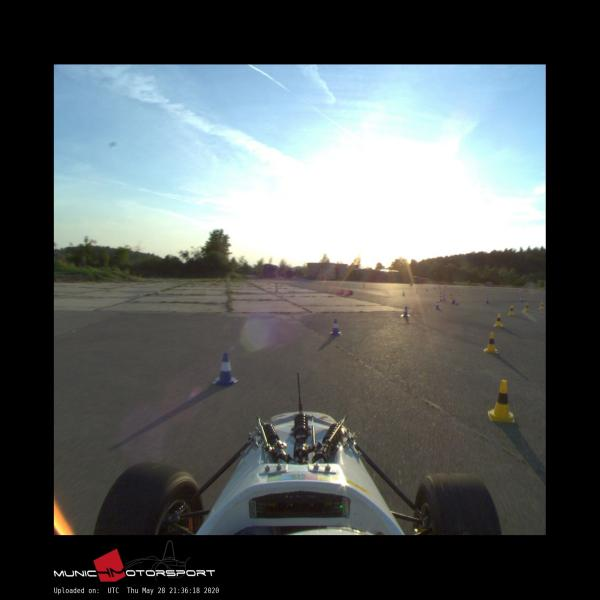blue_cone: (212, 351, 239, 387), (329, 318, 342, 336), (400, 306, 410, 317)
yellow_cone: (488, 379, 514, 423), (484, 332, 498, 354), (494, 314, 503, 328), (508, 306, 515, 315)
